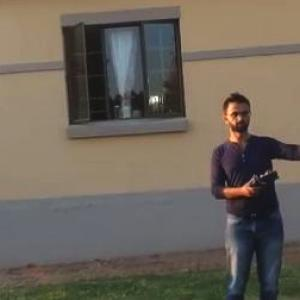follow: (206, 87, 300, 299)
